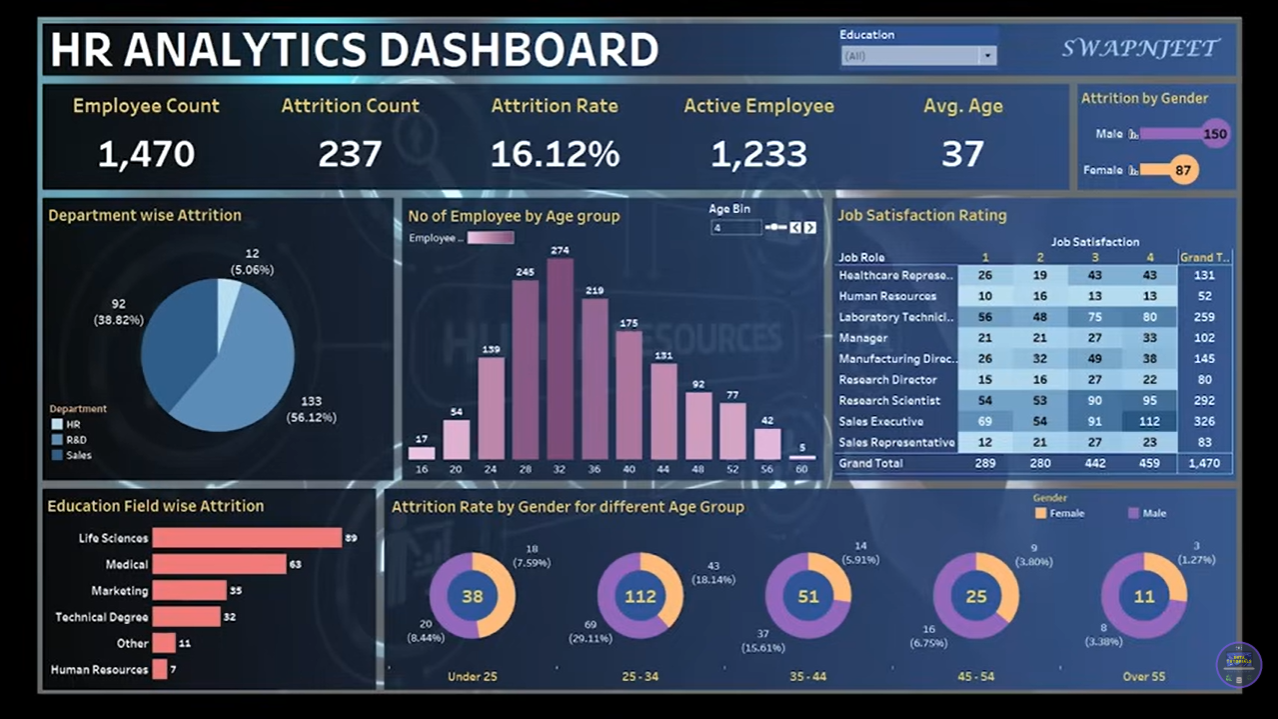

Layout of this report page (visuals, bound fields, positions):
{"tool":"tableau","page":{"name":"HR ANALYTICS DASHBOARD","canvas":[1000,1000],"units":"permille","ordinal":0},"visuals":[{"type":"image","param":"Image/HR background.jpg","box":[7.5,13.7,985.1,972.6]},{"type":"text","box":[42.1,30.8,360.2,65.1]},{"type":"filter","title":"KPI","param":"[federated.06c21k9147d12r191h40j08niwce].[none:Education:nk]","box":[801.7,34.2,149.7,54.8]},{"type":"worksheet","title":"Attrition by Gender","mark":"Automatic","rows":["Gender"],"cols":["Calculation_1383790013079552","Calculation_1383790013079552"],"box":[839.1,111.3,120.7,150.7]},{"type":"worksheet","title":"KPI","mark":"Automatic","box":[40.2,116.4,788.6,140.4]},{"type":"worksheet","title":"No of Employee by Age Group","mark":"Automatic","rows":["Employee Count"],"cols":["Age (bin)"],"box":[314.3,274,327.4,397.3]},{"type":"worksheet","title":"Job Satisfaction Rating","mark":"Square","rows":["Job Role"],"cols":["Job Satisfaction"],"box":[651.1,274,309.6,395.6]},{"type":"worksheet","title":"Department Wise Attrition","mark":"Pie","box":[40.1,275.7,266.8,392.1]},{"type":"parameter","param":"[Parameters].[Parameter 1]","box":[540.7,286,94.5,59.9]},{"type":"legend","title":"No of Employee by Age Group","param":"[federated.06c21k9147d12r191h40j08niwce].[sum:Employee Count:qk]","box":[322.7,316.8,119.7,24]},{"type":"worksheet","title":"Gender wise attrition rate","mark":"Automatic","rows":["Calculation_1585550733037568","Calculation_1585550733037568"],"cols":["CF_age band"],"box":[301.3,688.4,654.9,284.2]},{"type":"worksheet","title":"Education Field wise Attrition","mark":"Automatic","rows":["Education Field"],"cols":["Calculation_1383790013079552"],"box":[39.2,690.1,253.7,280.8]}]}

Visuals, with their boxes on the dashboard's canvas, which has no fixed pixel size, in thousandths of its width and height (x1, y1, x2, y2). These are canvas units, not pixel positions in the 1278x719 screenshot, which may show the page scaled, cropped or inside an application window:
image: BBox(8, 14, 993, 986)
text: BBox(42, 31, 402, 96)
"KPI" filter: BBox(802, 34, 951, 89)
"Attrition by Gender" worksheet: BBox(839, 111, 960, 262)
"KPI" worksheet: BBox(40, 116, 829, 257)
"No of Employee by Age Group" worksheet: BBox(314, 274, 642, 671)
"Job Satisfaction Rating" worksheet (Square marks): BBox(651, 274, 961, 670)
"Department Wise Attrition" worksheet (Pie marks): BBox(40, 276, 307, 668)
parameter: BBox(541, 286, 635, 346)
"No of Employee by Age Group" legend: BBox(323, 317, 442, 341)
"Gender wise attrition rate" worksheet: BBox(301, 688, 956, 973)
"Education Field wise Attrition" worksheet: BBox(39, 690, 293, 971)
